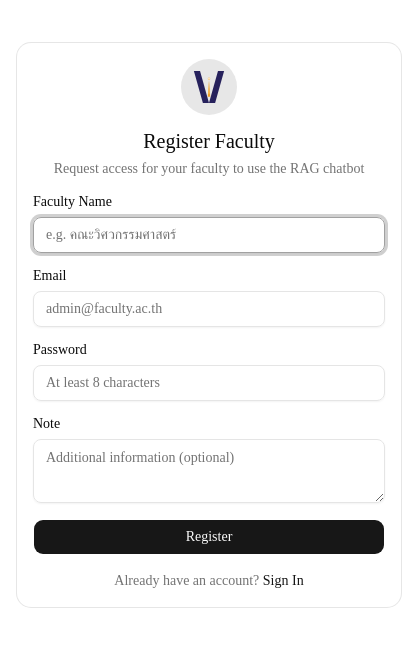
Test case: RegisterPage › shows error message on failure
In the field labelled "Faculty Name": (209, 235) [33, 217, 385, 253], type "Engineering"
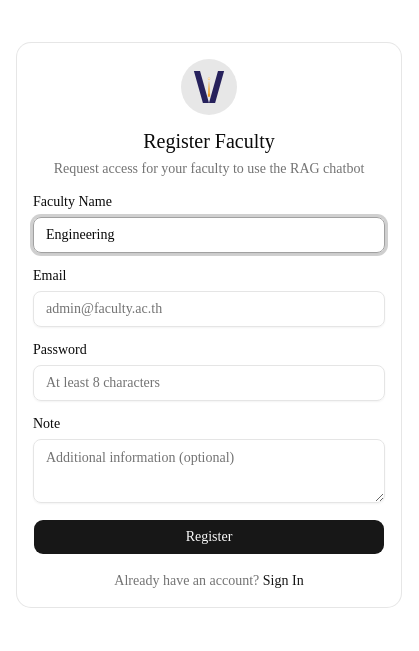
In the field labelled "Email": (209, 309) [33, 291, 385, 327], type "eng@cu.ac.th"
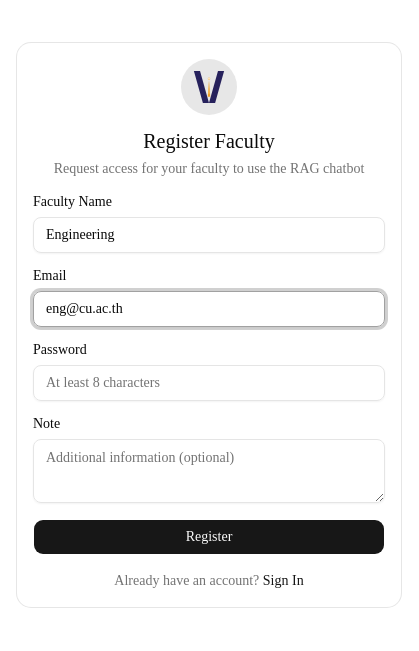
In the password field labelled "Password": (209, 383) [33, 365, 385, 401], type "securepass123"
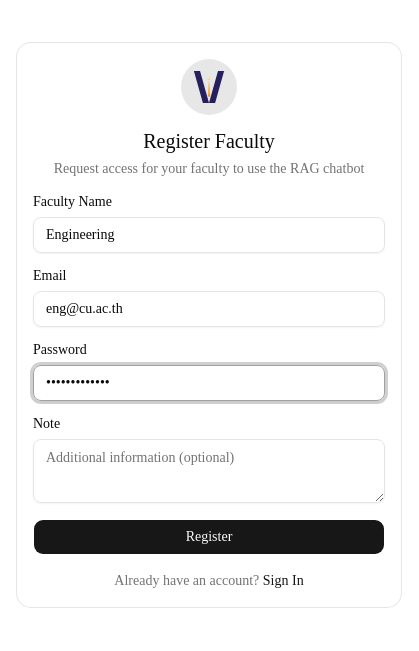
Click the button "Register": click(209, 537) [33, 519, 385, 555]
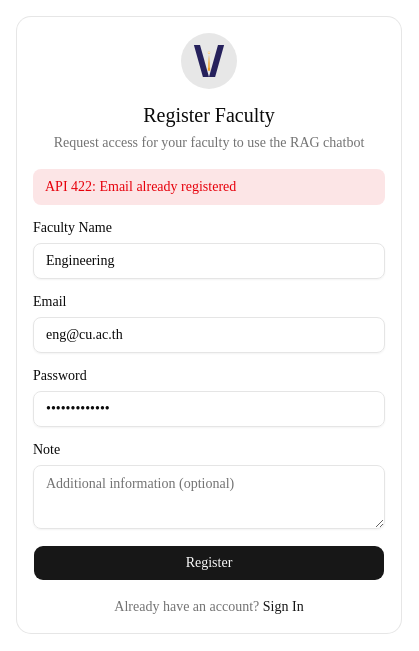
Result: the text "API 422: Email already registered" is shown at [33, 169, 385, 205]
